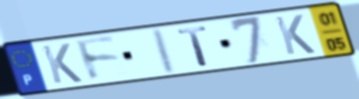7: (227, 14, 266, 66)
F: (72, 35, 123, 84)
I: (151, 26, 179, 77)
K: (272, 13, 318, 57), (39, 42, 85, 86)
T: (175, 24, 212, 68)
